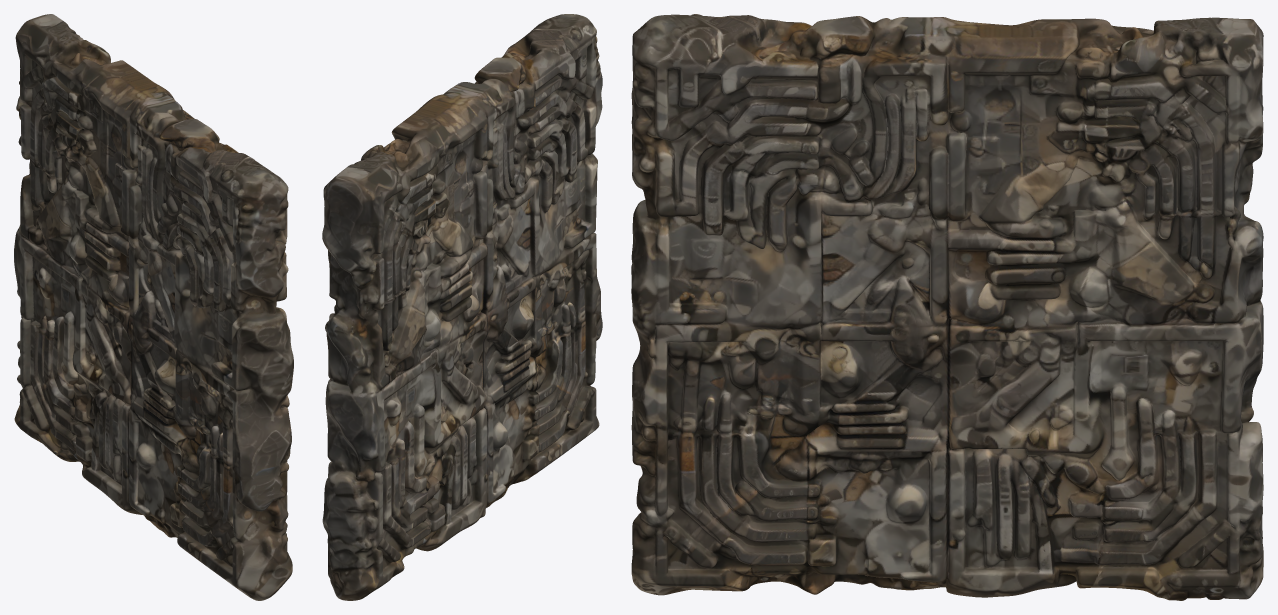
File: arch_floor_stone.glb
3 renders of one model, left to right at view 1: azimuth 30°, elevation 25°; view 2: azimuth 150°, elevation 25°; view 3: azimuth 270°, elevation 25°, orthographic. The views are drawn at different scales.
Parts seen in each view (by area): view 1: tripo_node_d47b0ee3-ac23-4a6f-a88d-3b07333e5048; view 2: tripo_node_d47b0ee3-ac23-4a6f-a88d-3b07333e5048; view 3: tripo_node_d47b0ee3-ac23-4a6f-a88d-3b07333e5048.
Part boxes in pixels (x1,y1,x2,y2): tripo_node_d47b0ee3-ac23-4a6f-a88d-3b07333e5048: [14, 14, 293, 600]; tripo_node_d47b0ee3-ac23-4a6f-a88d-3b07333e5048: [322, 14, 602, 600]; tripo_node_d47b0ee3-ac23-4a6f-a88d-3b07333e5048: [631, 14, 1263, 600].
Bounding box in the file's own units: 0.1611 × 0.9938 × 1.
1 material, 1 textured.
